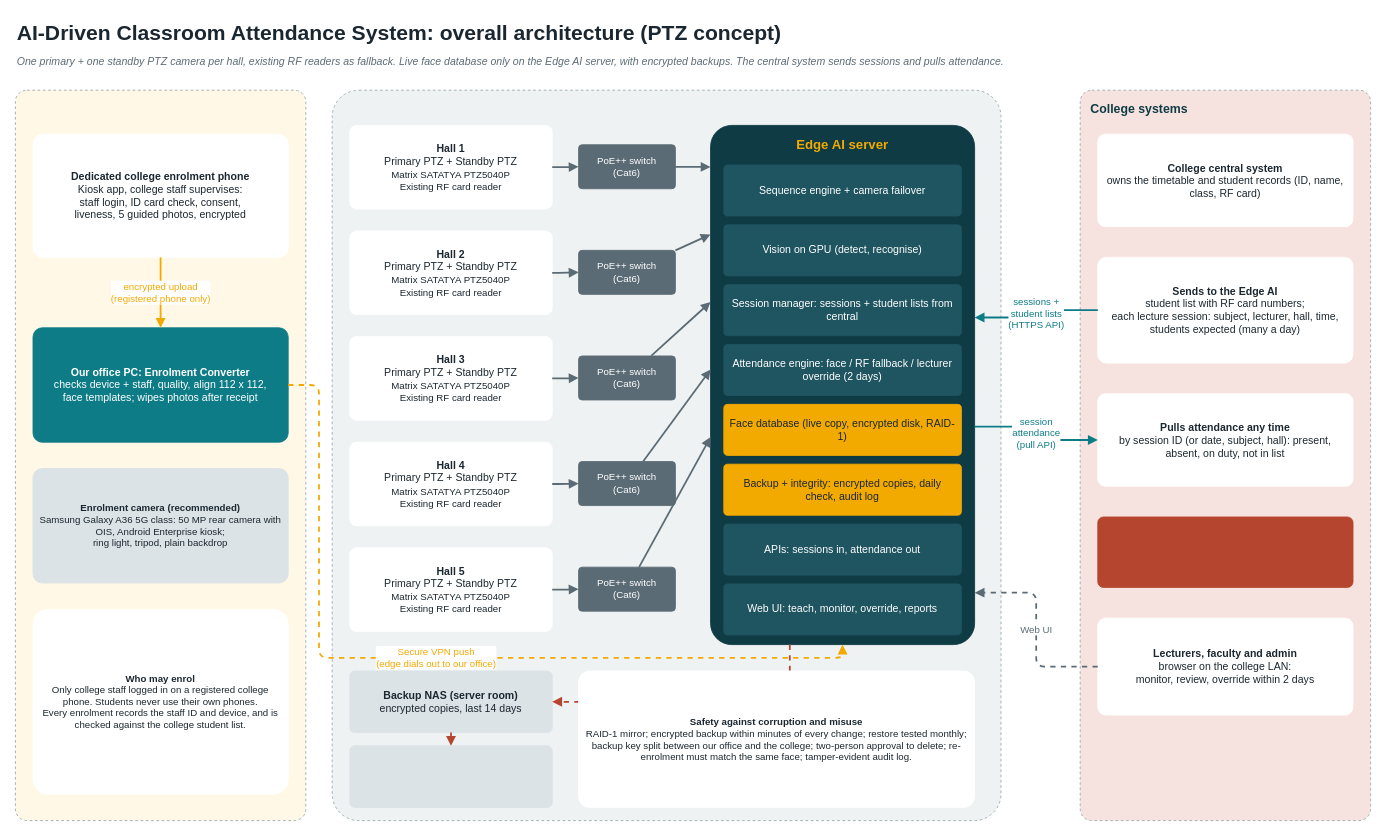
Image size: 1386x836. Some labels were removed from this diagram. The box of each missing label's shape, as (x1, y1, x2, y2) in pixels:
College campus: halls and server room: (331, 89, 1001, 821)
Enrolment (college desk + our office): (15, 89, 306, 821)
Never receives photos, face images or templates: (1097, 516, 1353, 587)
Offline encrypted copy monthly, in the college safe: (349, 745, 552, 807)
